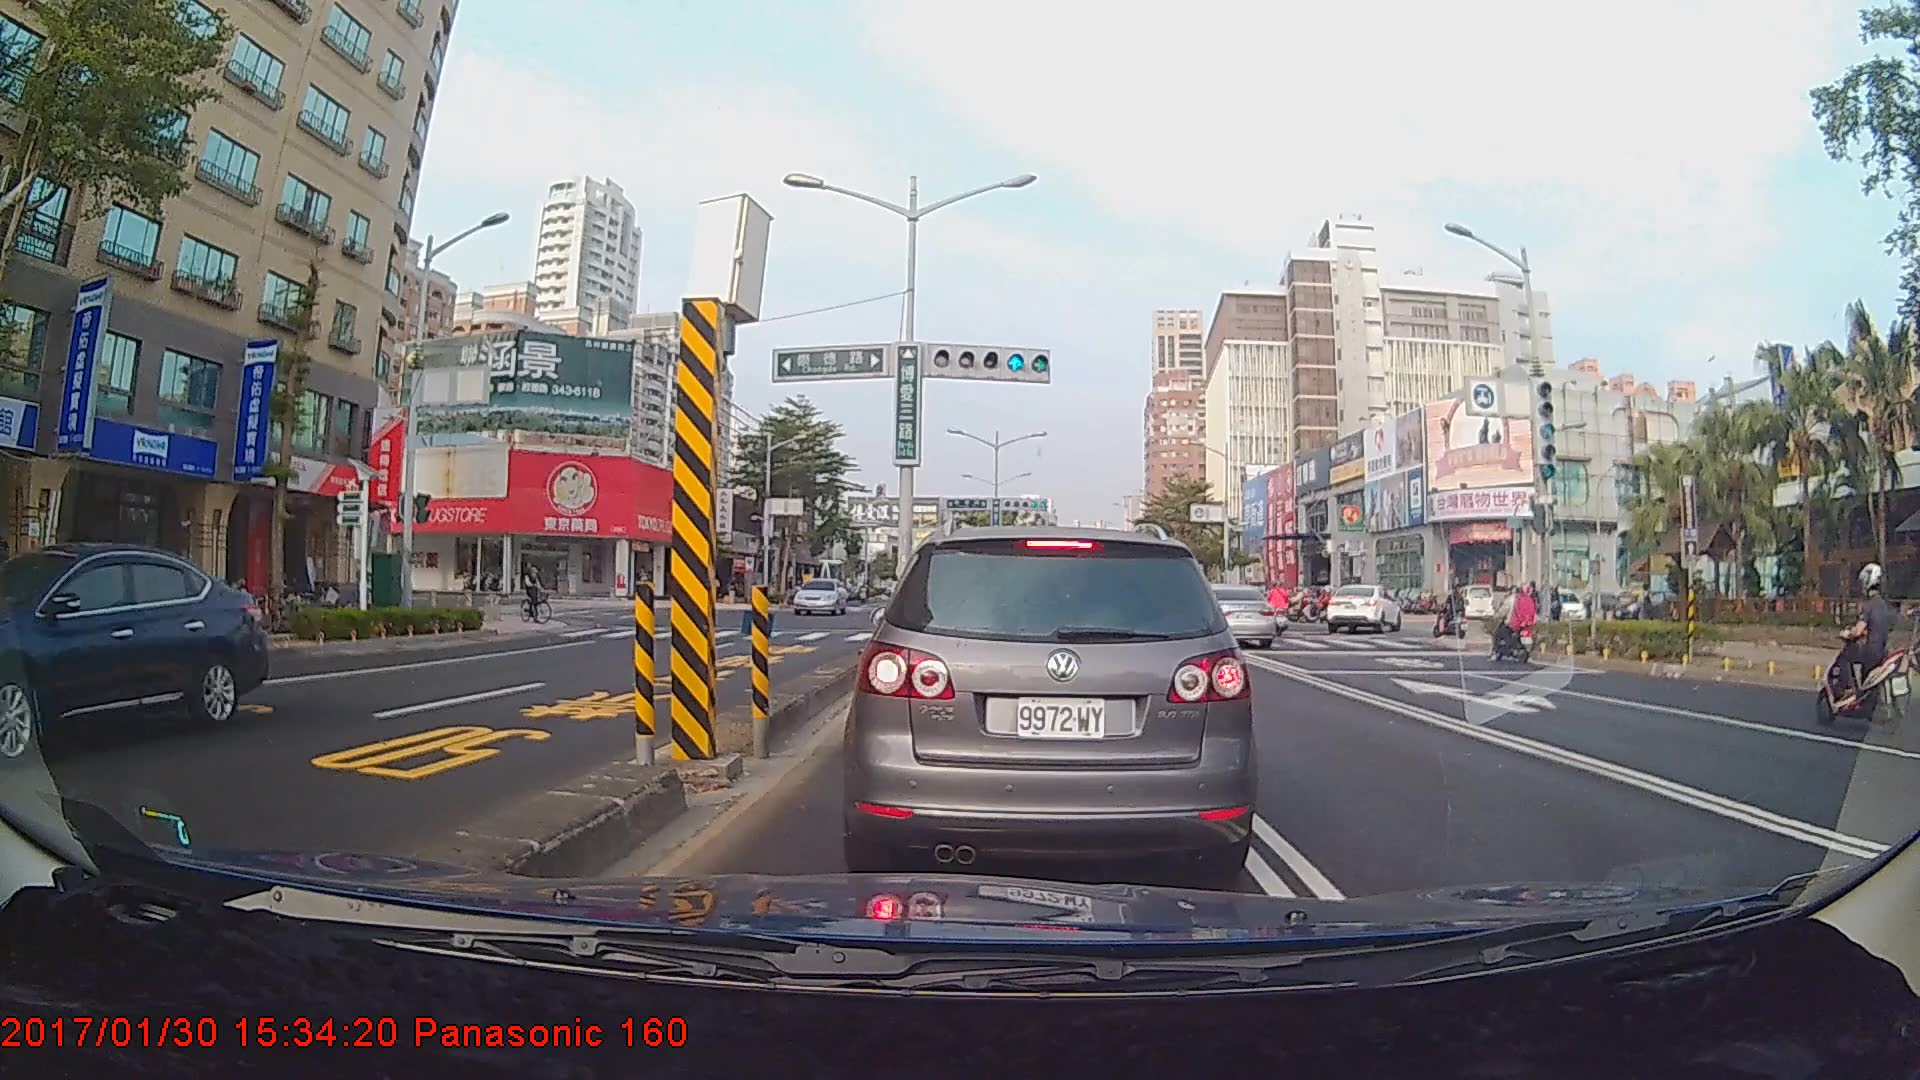pedestrian: (1631, 581, 1660, 640)
rider: (1817, 566, 1920, 727), (1485, 582, 1548, 668), (518, 559, 561, 629), (1433, 582, 1470, 646)
vehicle: (855, 522, 1252, 874), (0, 538, 269, 762), (1180, 582, 1276, 649), (1325, 584, 1401, 633), (790, 576, 848, 615)
